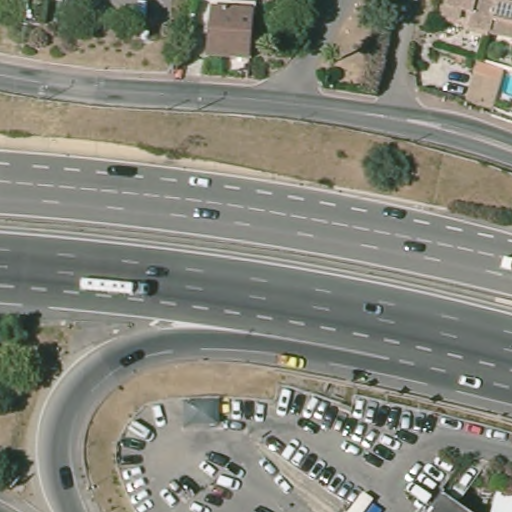pool: (498, 65, 512, 105)
